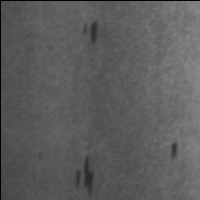inclusion: (73, 153, 97, 198), (79, 17, 102, 48), (168, 139, 181, 162)
